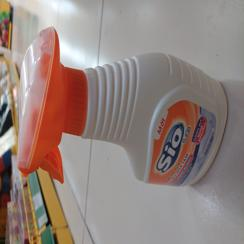sio: (13, 25, 229, 191)
